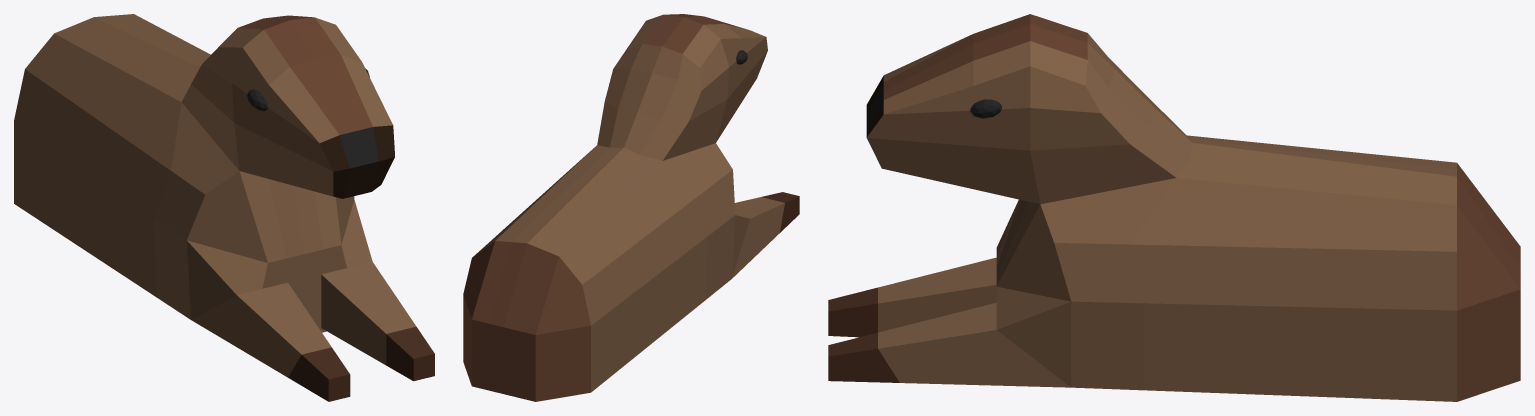
File: capy.glb
The picture shows the model from 3 angles, left to right: view 1: azimuth 30°, elevation 25°; view 2: azimuth 150°, elevation 25°; view 3: azimuth 270°, elevation 25°; orthographic projection. The views are drawn at different scales.
Visible parts, largest first — view 1: Cube; view 2: Cube; view 3: Cube.
Boxes of the visible parts, <box> form: Cube: <box>14,14,434,401</box>; Cube: <box>463,14,799,401</box>; Cube: <box>828,14,1520,401</box>.
Bounding box in the file's own units: 2.1 × 3.67 × 6.87.
Materials: 1 (1 with a texture image).
